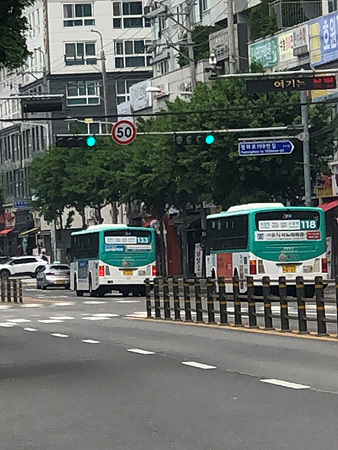bnum: (300, 219, 317, 228)
